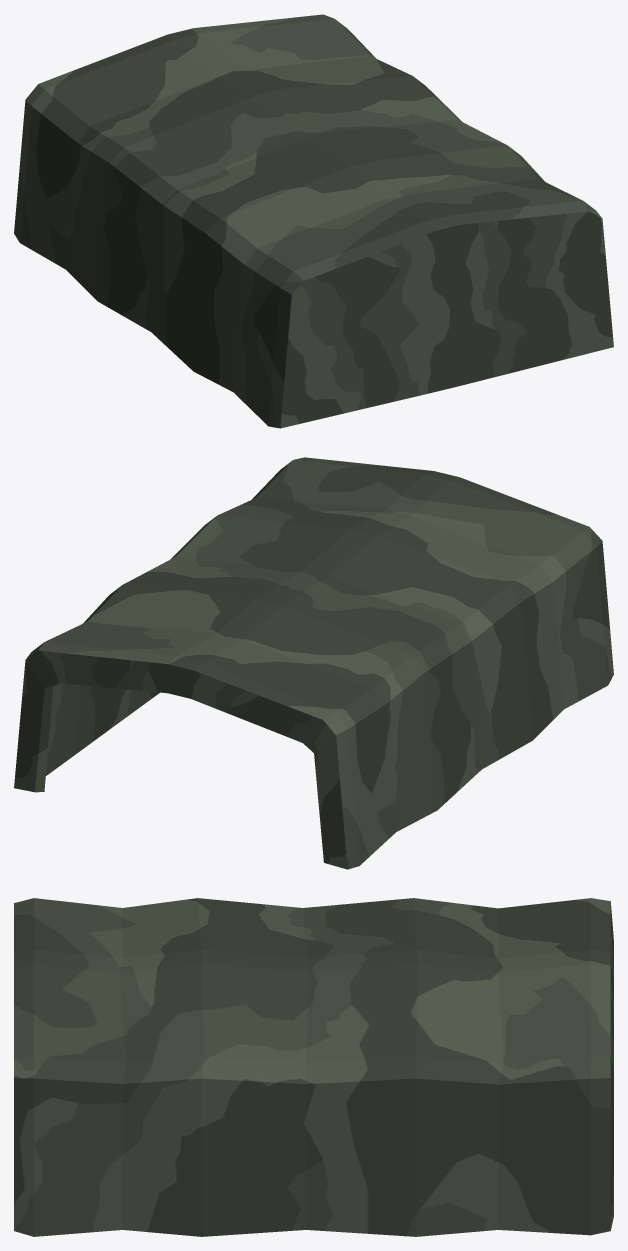
Rendered from SM_Veh_Truck_01_Canopy.fbx.
3 renders of one model, top to bottom at view 1: azimuth 30°, elevation 25°; view 2: azimuth 150°, elevation 25°; view 3: azimuth 270°, elevation 25°, orthographic. The views are drawn at different scales.
Parts seen in each view (by area): view 1: SM_Veh_Truck_01_Canopy; view 2: SM_Veh_Truck_01_Canopy; view 3: SM_Veh_Truck_01_Canopy.
Part boxes in pixels (x1,y1,x2,y2): SM_Veh_Truck_01_Canopy: (14,14,613,428); SM_Veh_Truck_01_Canopy: (14,457,613,869); SM_Veh_Truck_01_Canopy: (14,898,613,1236).
Size of the model in its own units: 279 by 131 by 381.
